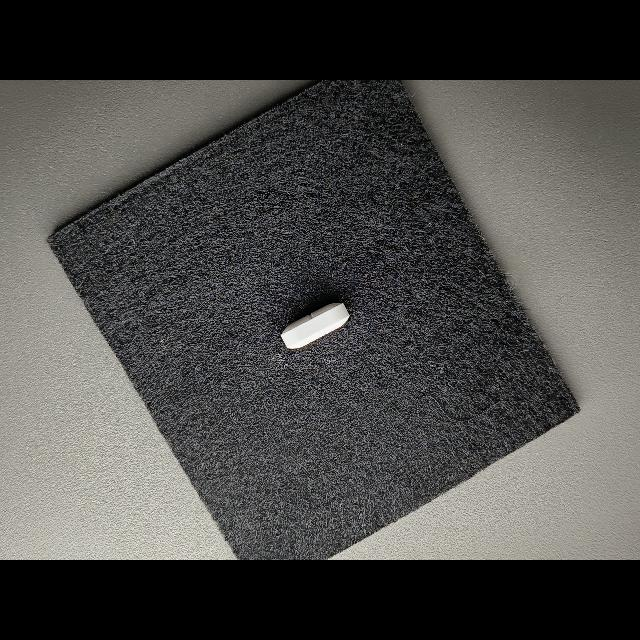Intact Pill: (280, 302, 350, 349)
